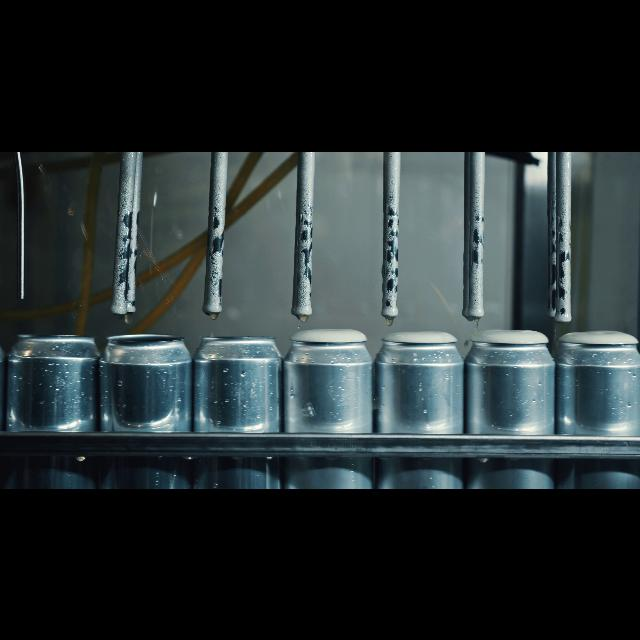empty: (105, 322, 193, 488), (11, 327, 100, 467), (206, 326, 280, 488)
full: (372, 318, 462, 488), (286, 317, 372, 488), (466, 318, 548, 488)
